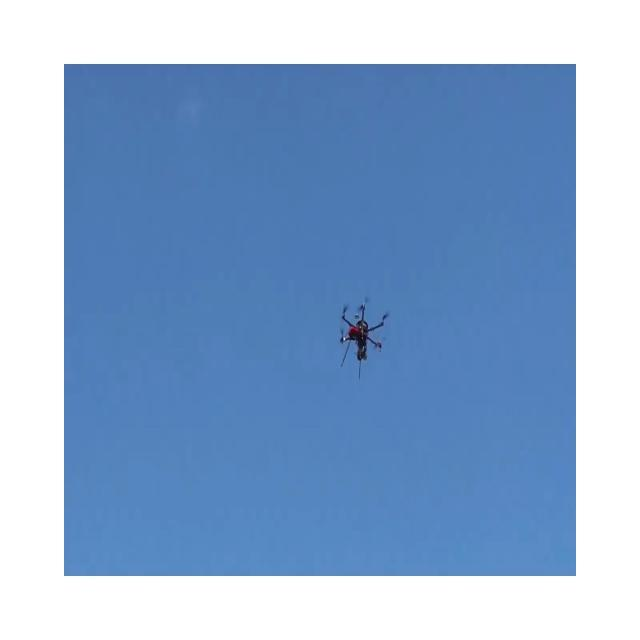drone: (338, 296, 388, 380)
